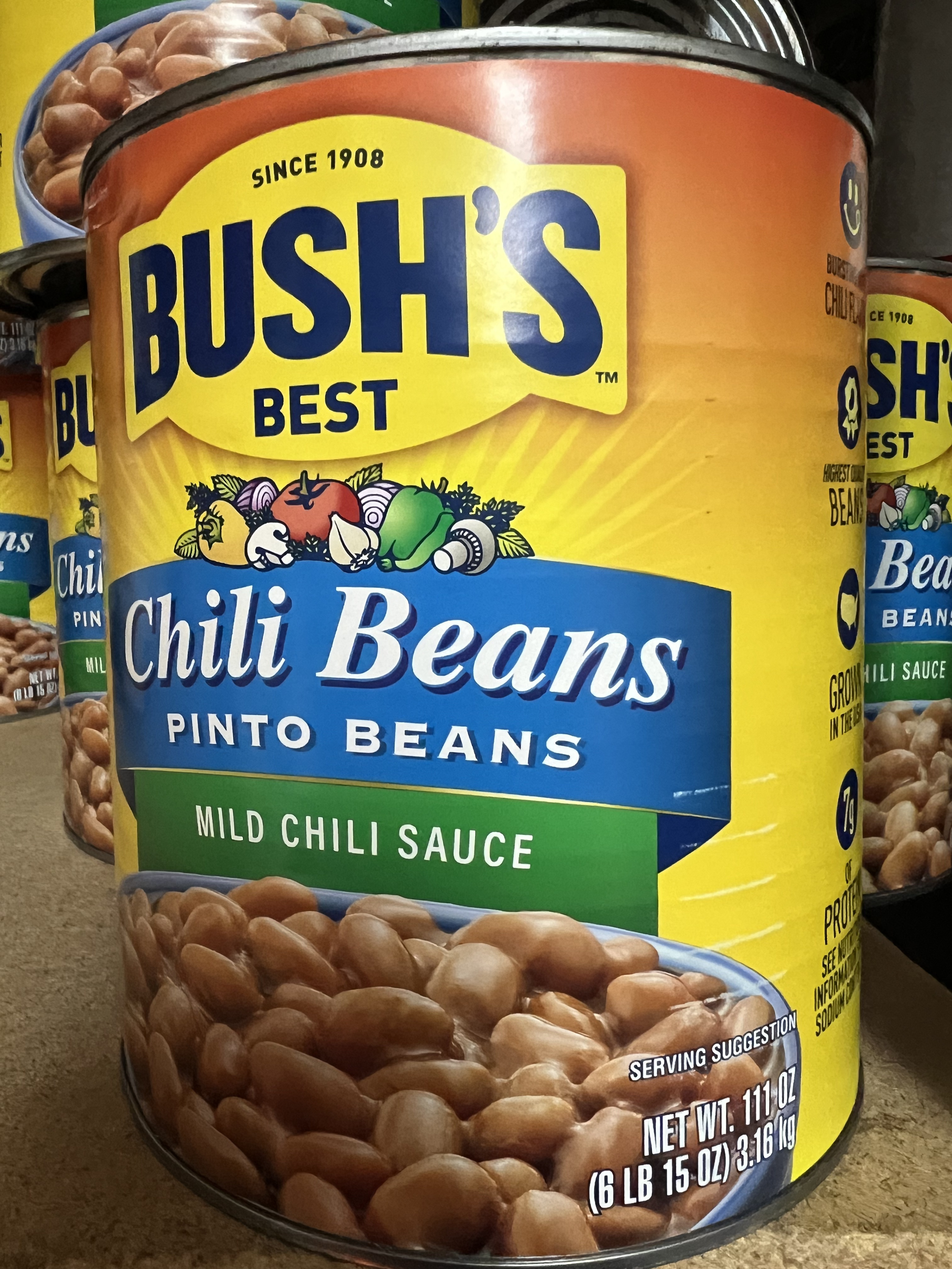packaged: (101, 36, 870, 1261)
